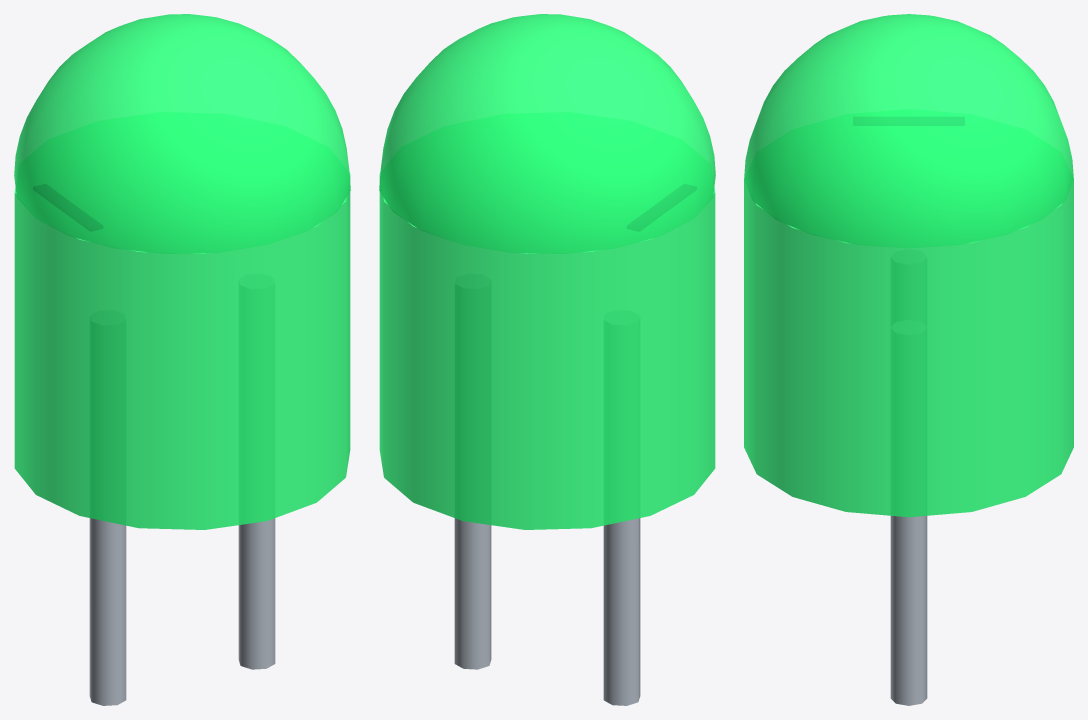
File: kingbright-wp7113gd-reference.glb
3 views of the same model, side by side, from view 1: azimuth 30°, elevation 25°; view 2: azimuth 150°, elevation 25°; view 3: azimuth 270°, elevation 25° (orthographic). The views are drawn at different scales.
Visible parts, largest first — view 1: LED T-1 3/4 lower body, LED green diffused dome, LED cathode lead, LED anode lead; view 2: LED T-1 3/4 lower body, LED green diffused dome, LED cathode lead, LED anode lead; view 3: LED T-1 3/4 lower body, LED green diffused dome, LED anode lead.
Part boxes in pixels (box(x1,y1,x2,y2)): LED T-1 3/4 lower body: box(14, 173, 350, 529); LED green diffused dome: box(14, 14, 350, 253); LED cathode lead: box(89, 518, 126, 705); LED anode lead: box(238, 518, 275, 669); LED T-1 3/4 lower body: box(379, 173, 715, 529); LED green diffused dome: box(379, 14, 715, 253); LED cathode lead: box(603, 518, 640, 705); LED anode lead: box(454, 518, 491, 669); LED T-1 3/4 lower body: box(744, 178, 1073, 517); LED green diffused dome: box(744, 14, 1073, 248); LED anode lead: box(890, 515, 927, 705).
Size of the model in its own units: 5 by 10.6 by 5.
